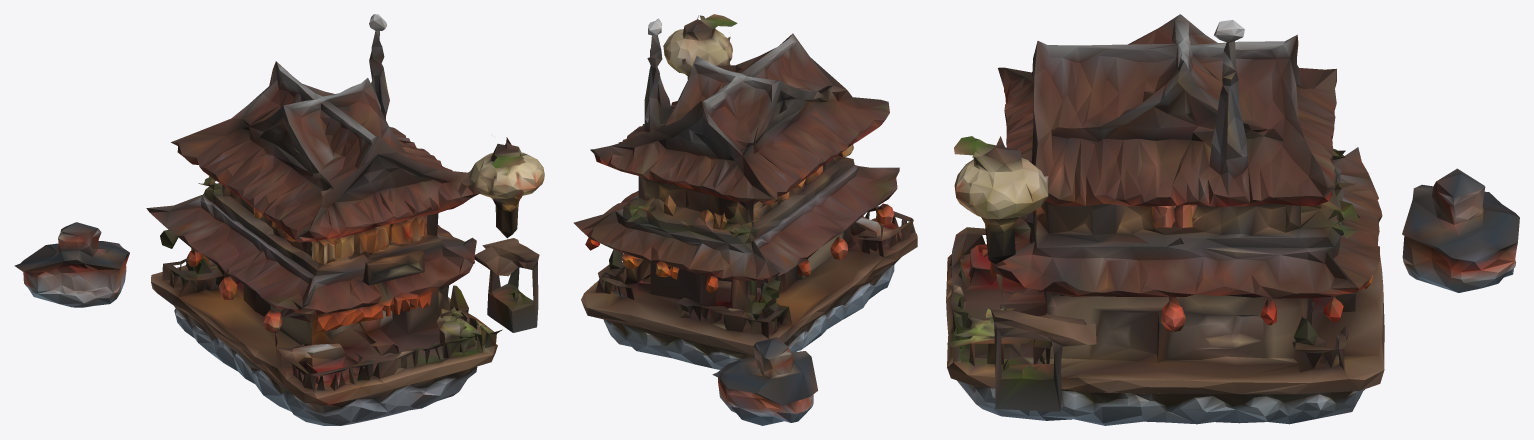
The model's file is bq_tavern.vc.glb.
3 renders of one model, left to right at view 1: azimuth 30°, elevation 25°; view 2: azimuth 150°, elevation 25°; view 3: azimuth 270°, elevation 25°, orthographic. The views are drawn at different scales.
Visible parts, largest first — view 1: bq_tavern; view 2: bq_tavern; view 3: bq_tavern.
Boxes of the visible parts, x1,y1,x2,y2 form: bq_tavern: [14, 14, 544, 425]; bq_tavern: [573, 14, 917, 425]; bq_tavern: [946, 14, 1519, 425].
Size of the model in its own units: 1.82 by 1.59 by 1.99.
